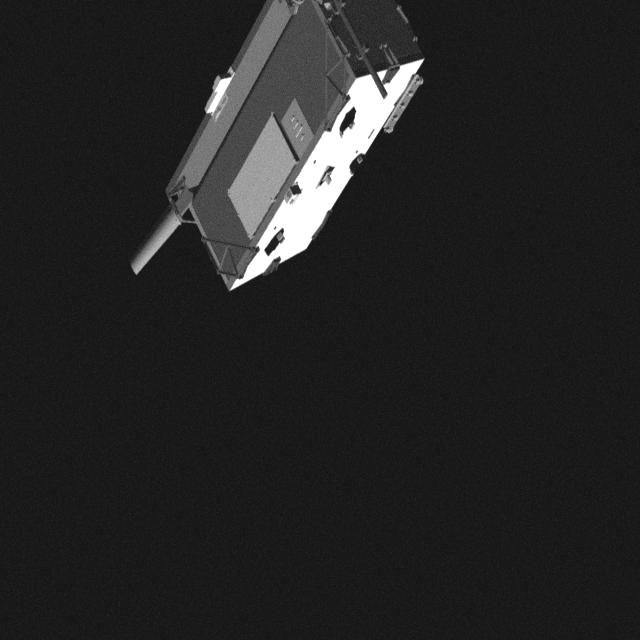satellite: (120, 2, 430, 304)
